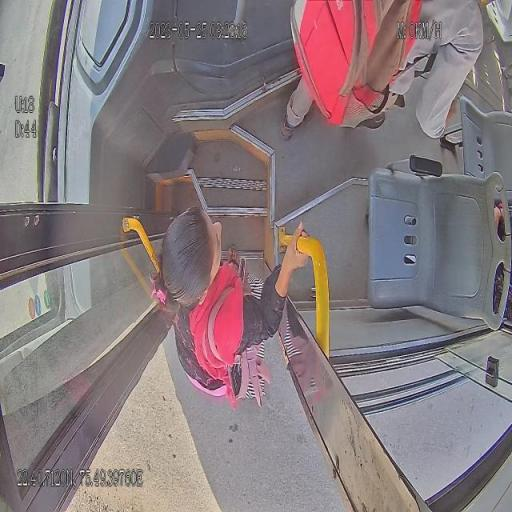persona: (149, 206, 312, 408), (279, 0, 484, 143)
